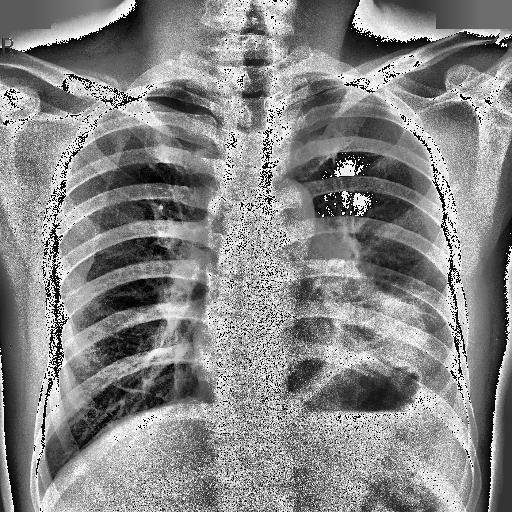0- Aortic enlargement: (246, 173, 318, 265)
10- Pleural effusion: (395, 300, 480, 414), (405, 362, 471, 422), (416, 304, 458, 360)
11- Pleural thickening: (416, 304, 458, 360)
3- Cardiomegaly: (198, 280, 434, 408), (188, 294, 436, 405), (188, 310, 430, 415)
9- Other lesion: (304, 336, 460, 393)
